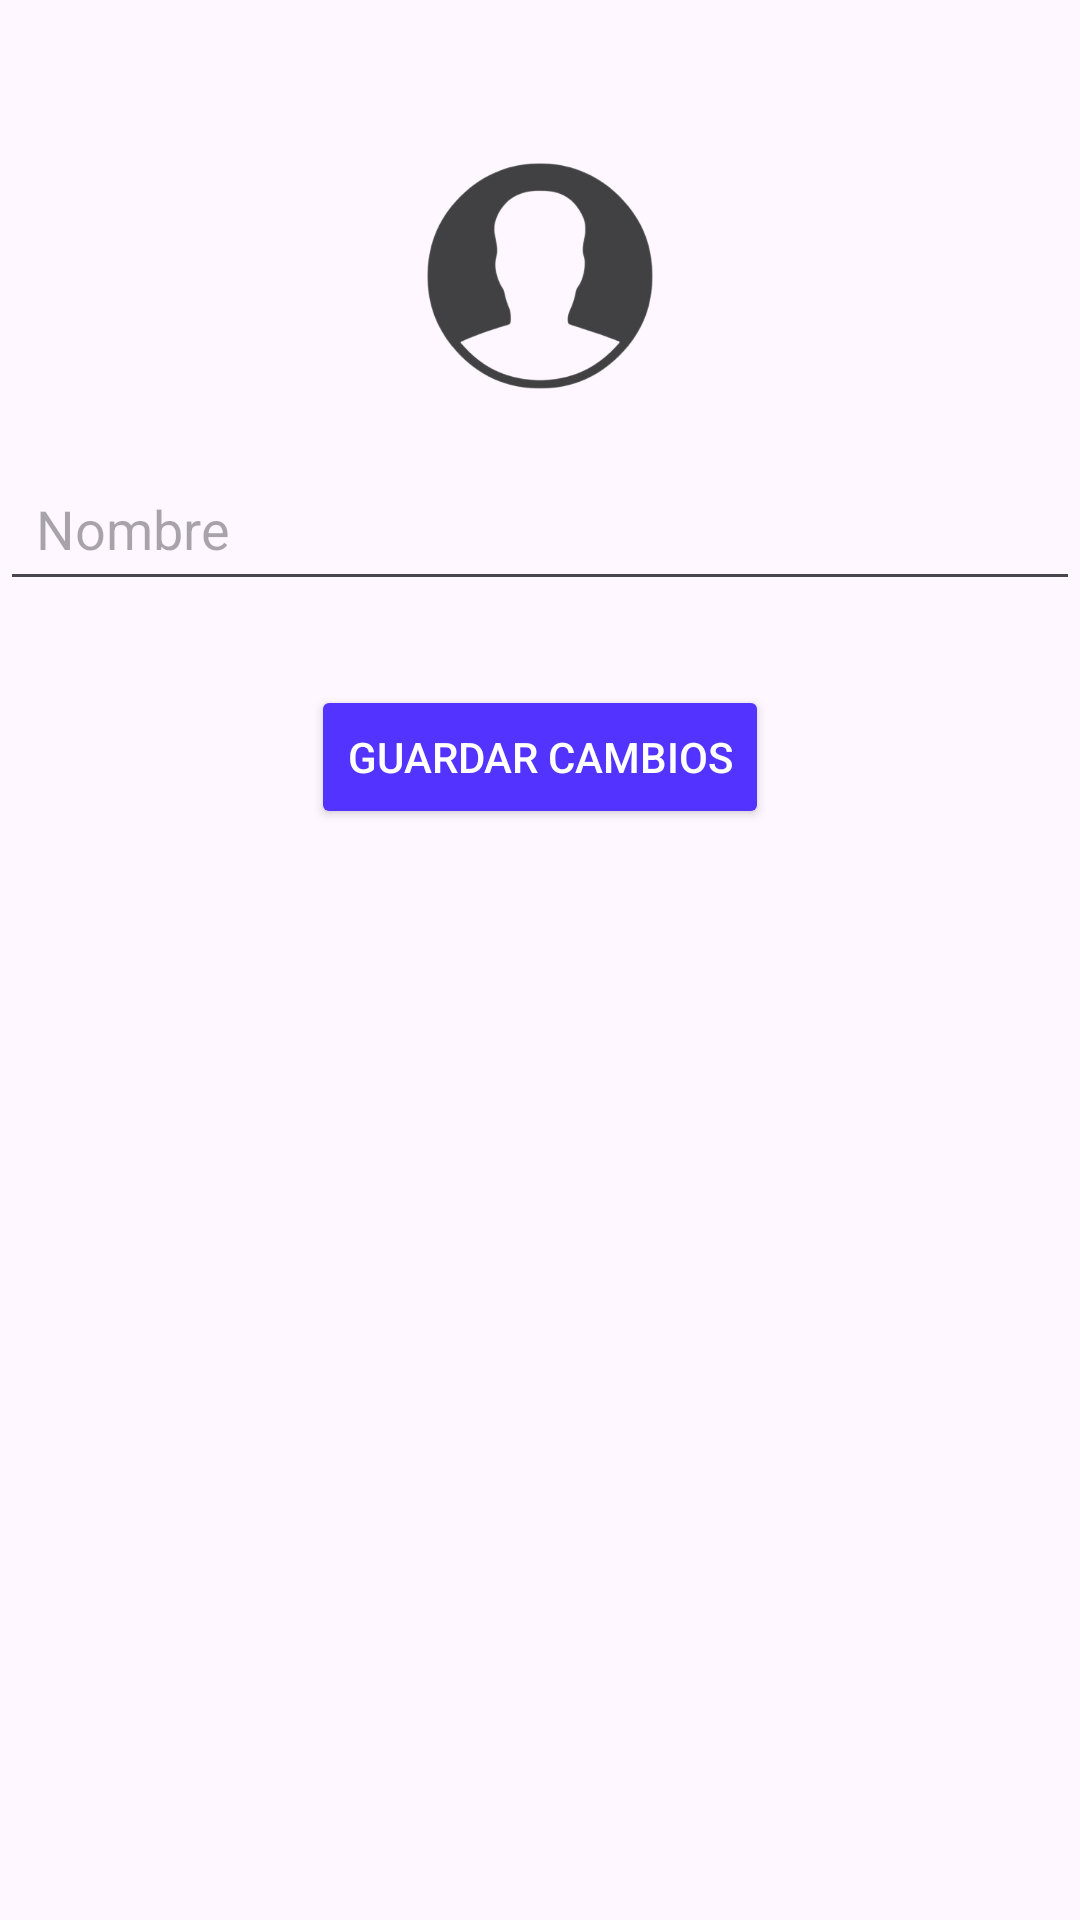

Where icons sit on this 1080×1920 app screen, as [x1,y1,x2,y2]:
profile: [427,163,653,389]
